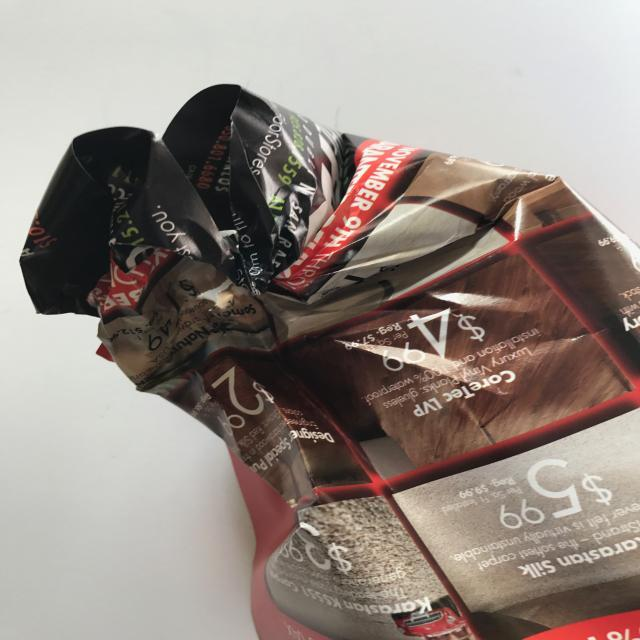paper: (12, 83, 640, 640)
